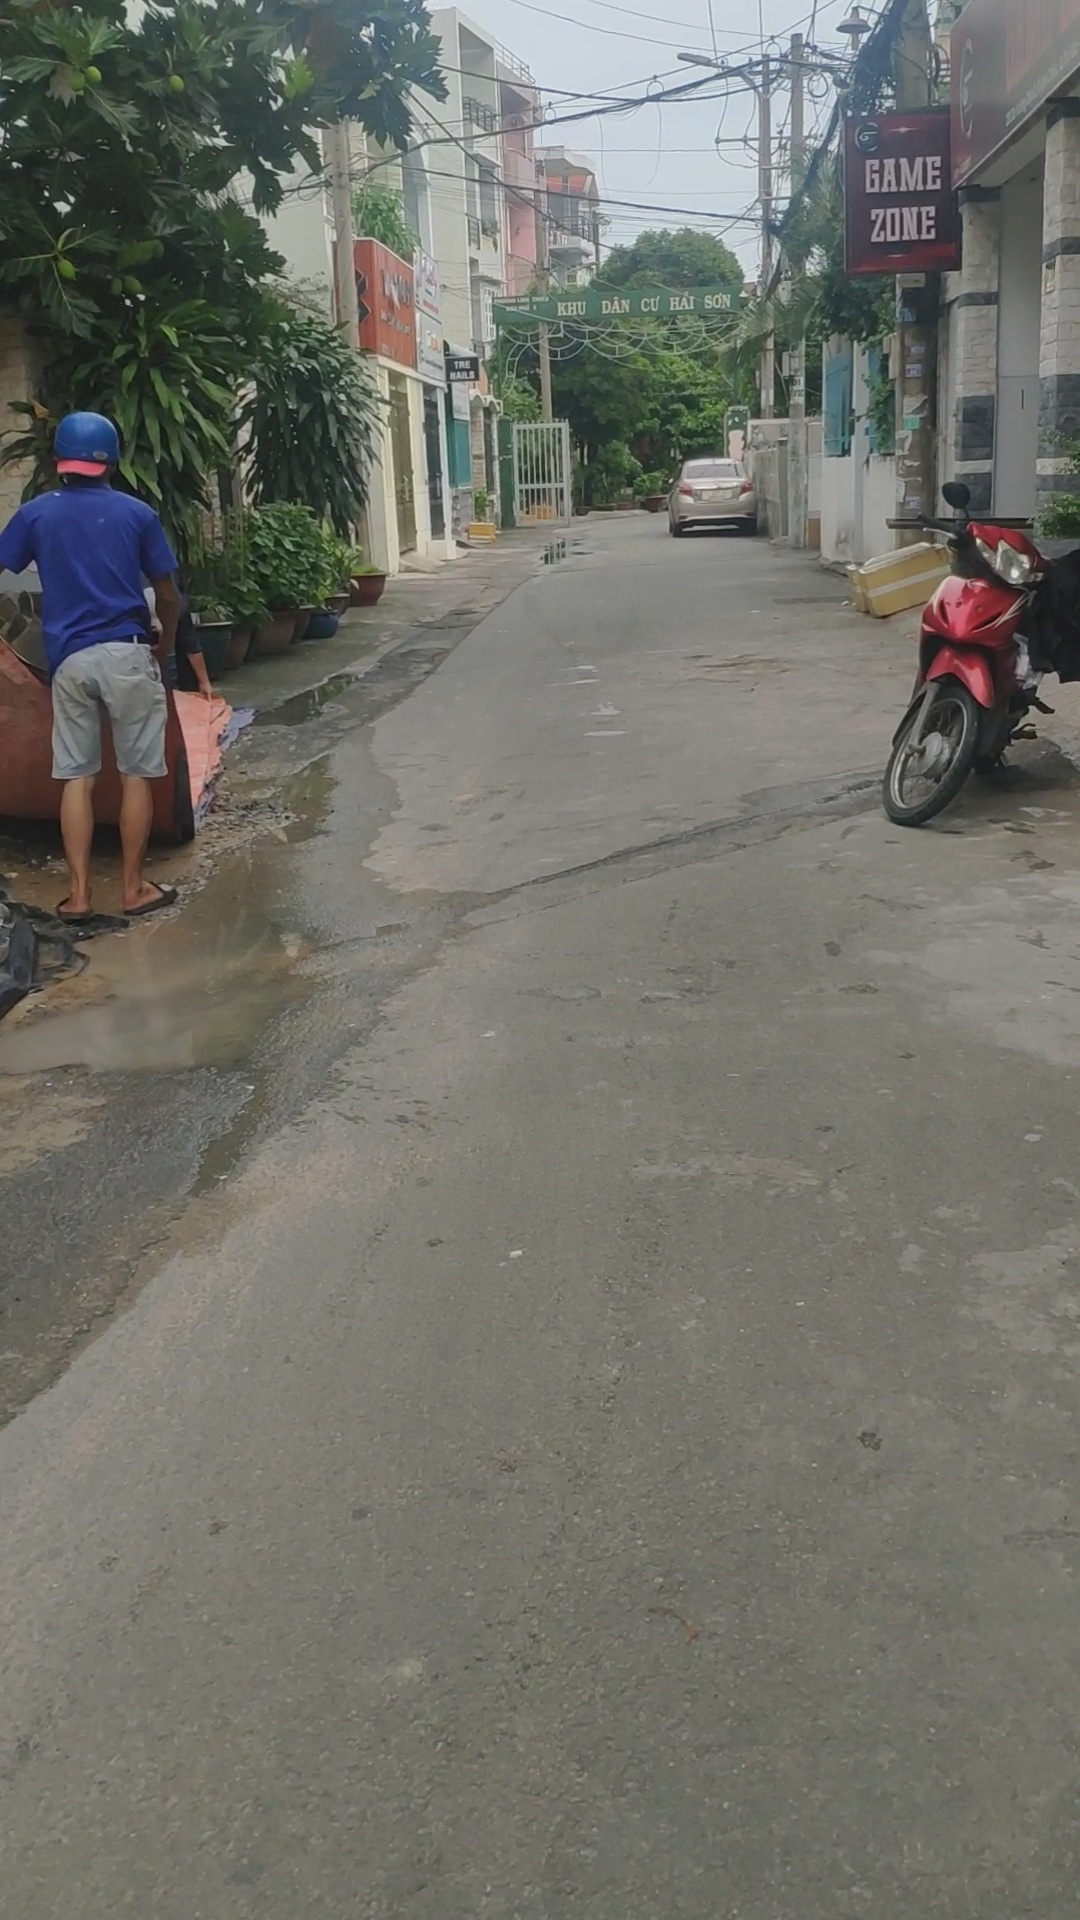hole: (1, 910, 351, 1106), (235, 666, 373, 735), (520, 538, 600, 570), (421, 605, 489, 626)
